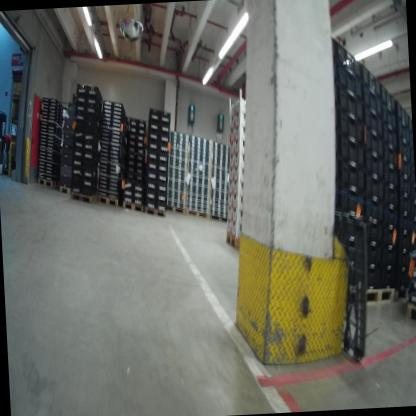pallet: (346, 284, 396, 313), (69, 187, 100, 204), (184, 206, 210, 224), (221, 230, 243, 251), (34, 175, 61, 190), (98, 191, 120, 208), (405, 295, 416, 326), (144, 204, 164, 221), (394, 282, 410, 303), (165, 202, 189, 216), (121, 201, 146, 214), (58, 182, 75, 198), (211, 210, 230, 224)
pallet_truck: (0, 103, 10, 163)
